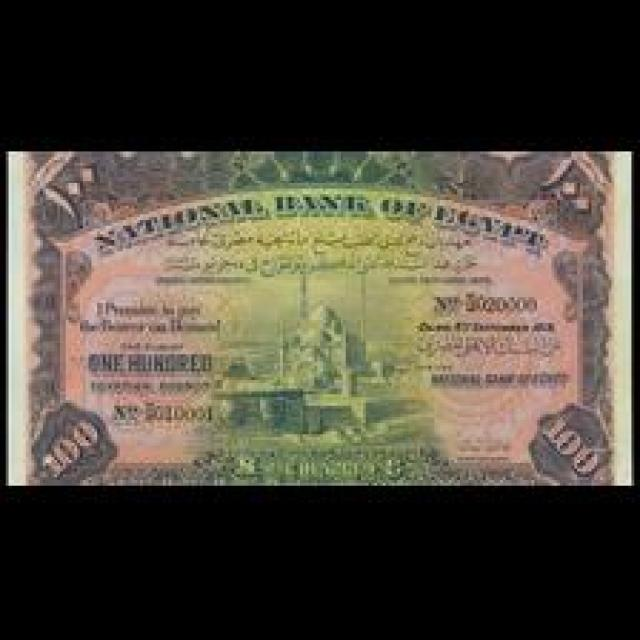banknote: (6, 148, 634, 486)
